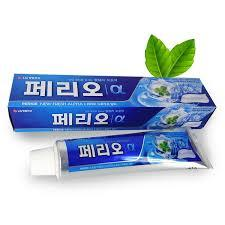toothpaste: (17, 131, 222, 186)
